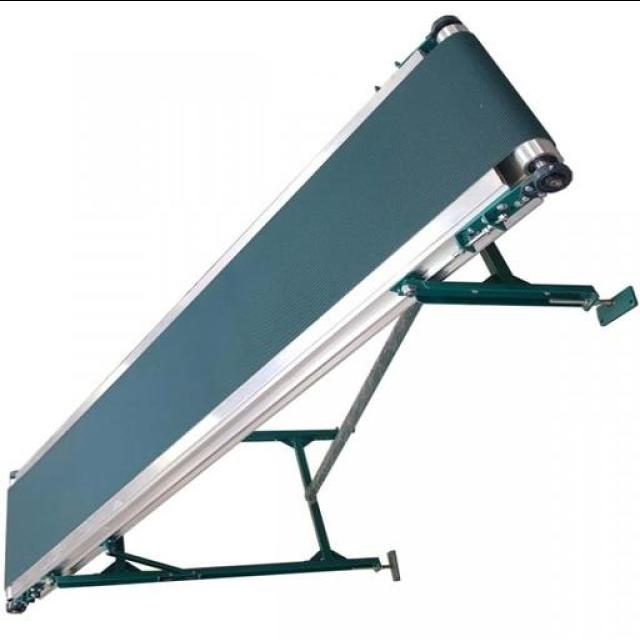conveyor: (8, 37, 537, 594)
